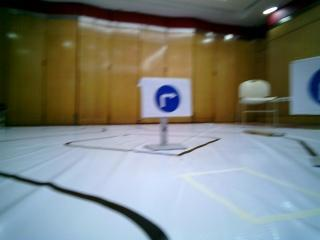right: (147, 76, 192, 114)
